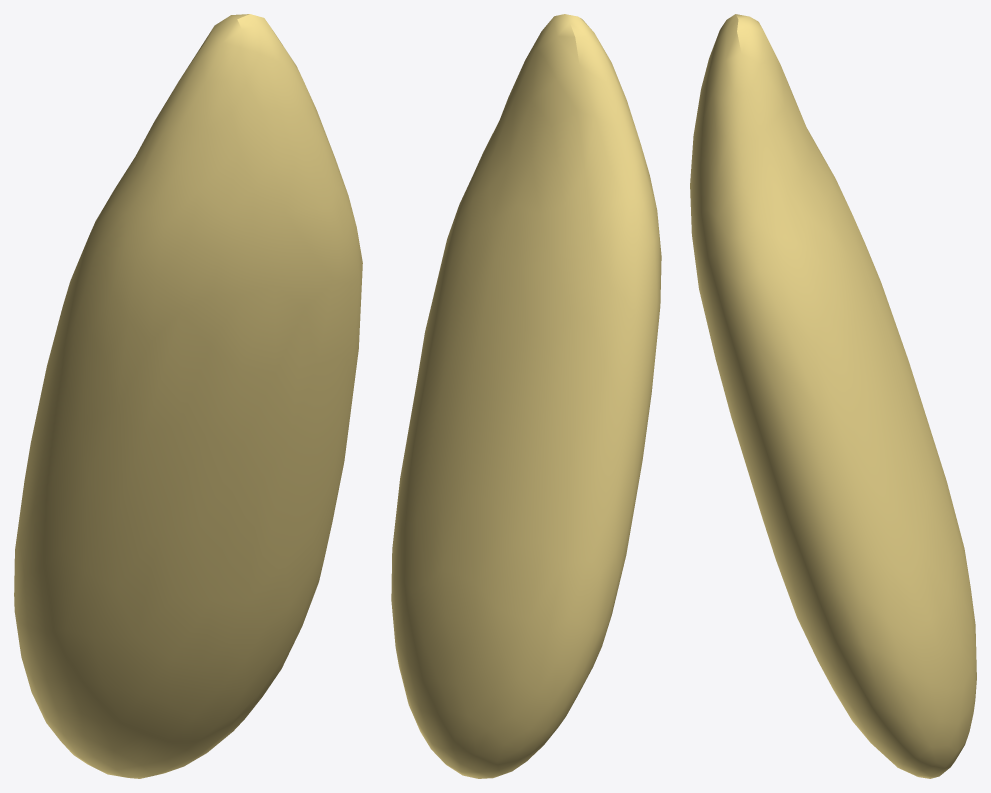
The model's file is fma72466-r_mm3590m.glb.
3 renders of one model, left to right at view 1: azimuth 30°, elevation 25°; view 2: azimuth 150°, elevation 25°; view 3: azimuth 270°, elevation 25°, orthographic. The views are drawn at different scales.
Parts seen in each view (by area): view 1: FMA72466-R_MM3590M; view 2: FMA72466-R_MM3590M; view 3: FMA72466-R_MM3590M.
Part boxes in pixels (x1=…): FMA72466-R_MM3590M: x1=14, y1=14, x2=362, y2=778; FMA72466-R_MM3590M: x1=391, y1=14, x2=661, y2=778; FMA72466-R_MM3590M: x1=690, y1=14, x2=976, y2=778.
Bounding box in the file's own units: 0.00447 × 0.0127 × 0.00439.
